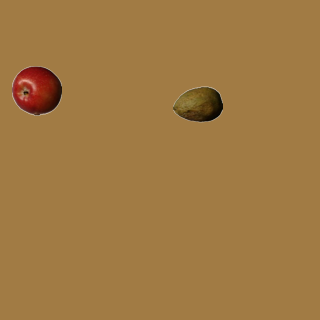Apple Braeburn: (11, 65, 61, 115)
Papaya: (172, 79, 222, 129)
